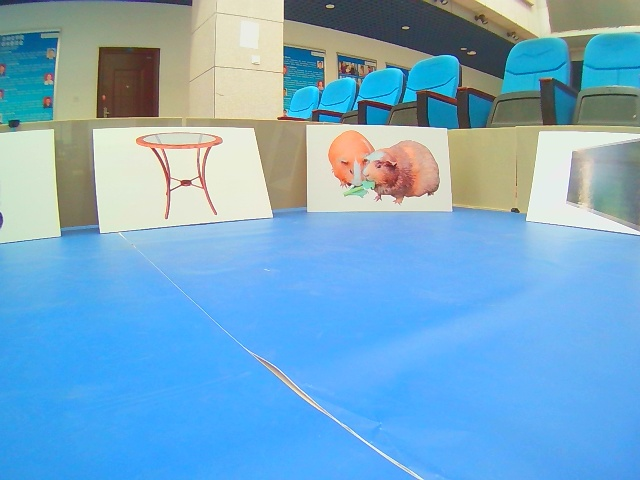pet: (304, 123, 455, 213)
table: (92, 128, 275, 234)
